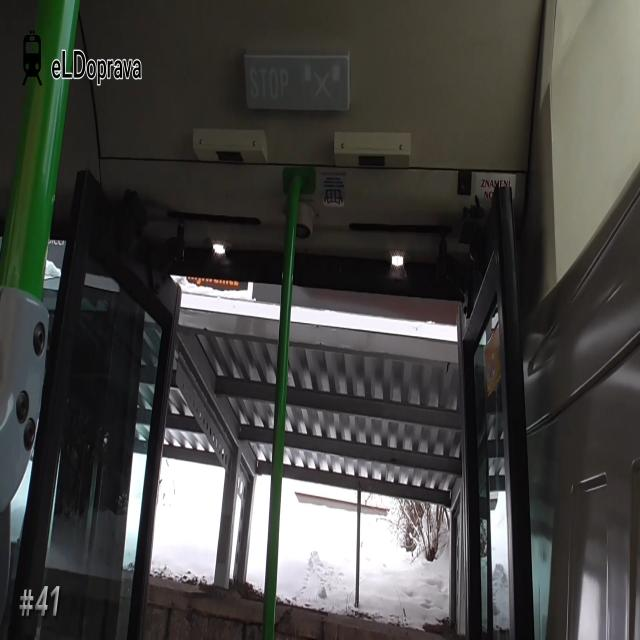bus-door: (76, 204, 515, 640)
